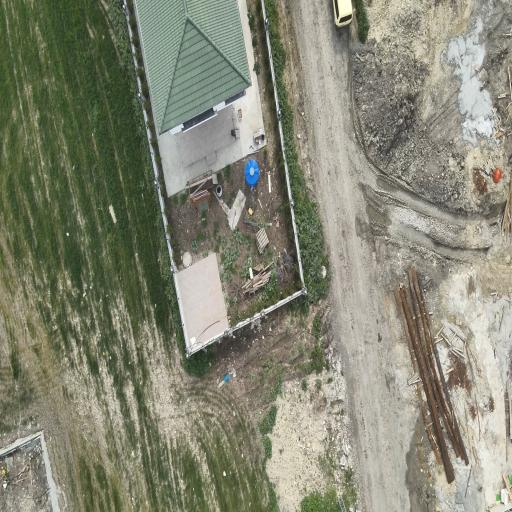car: (334, 0, 352, 26)
